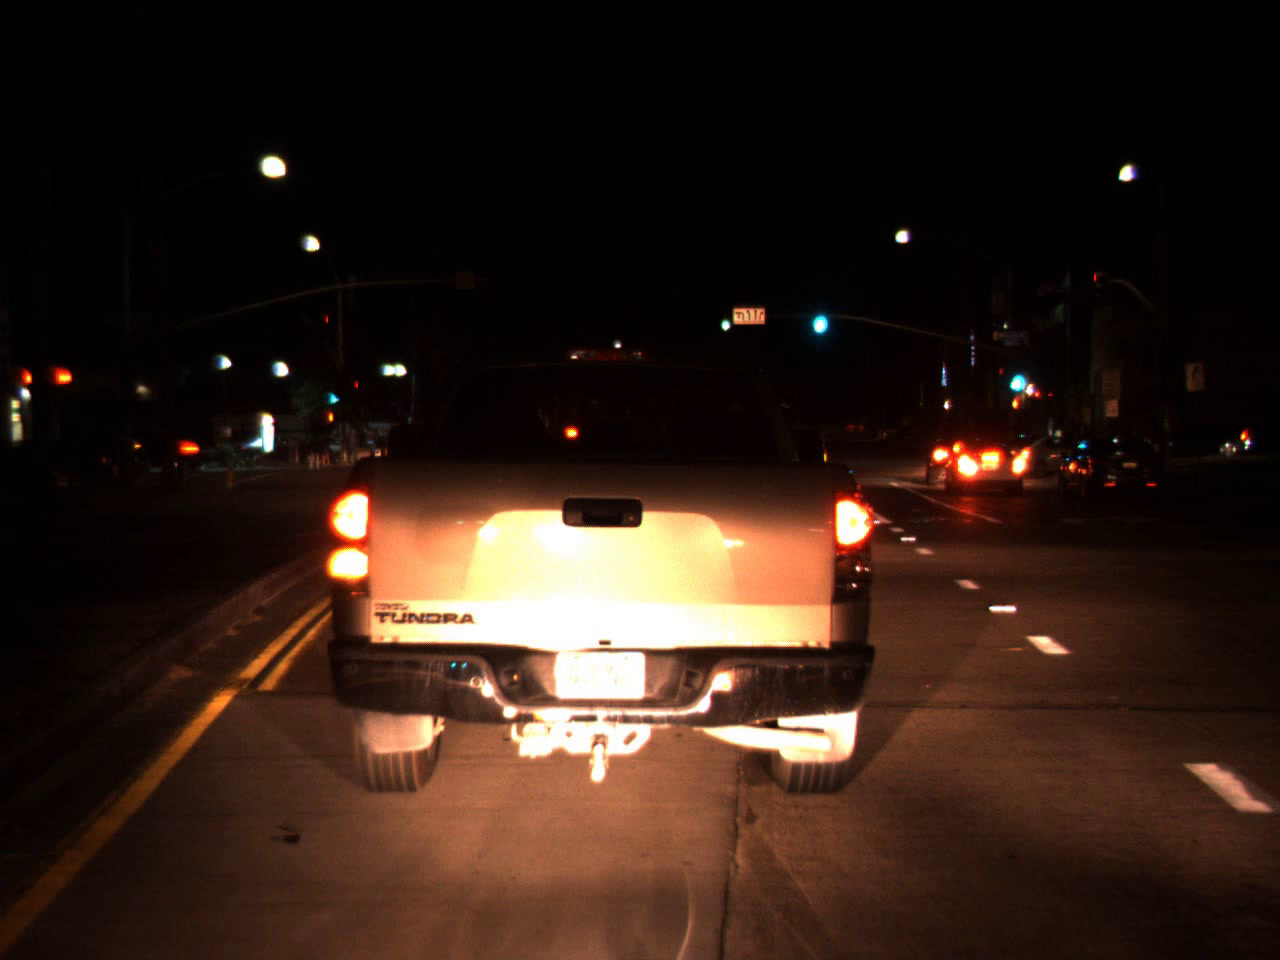go: (1002, 353, 1029, 398), (807, 292, 830, 340), (324, 377, 343, 410), (718, 310, 730, 334)
